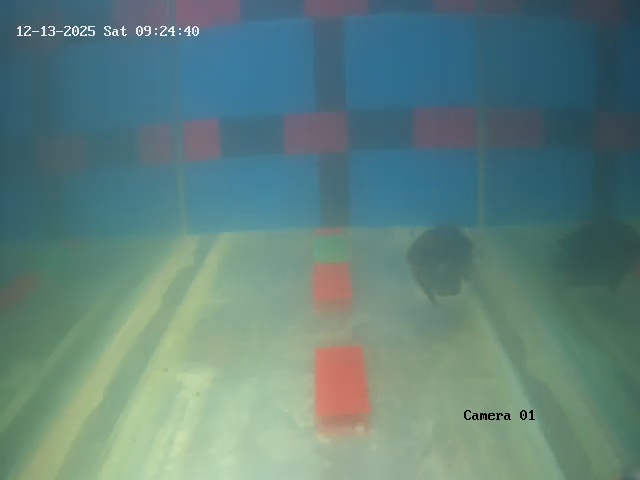fish: (409, 226, 473, 300)
